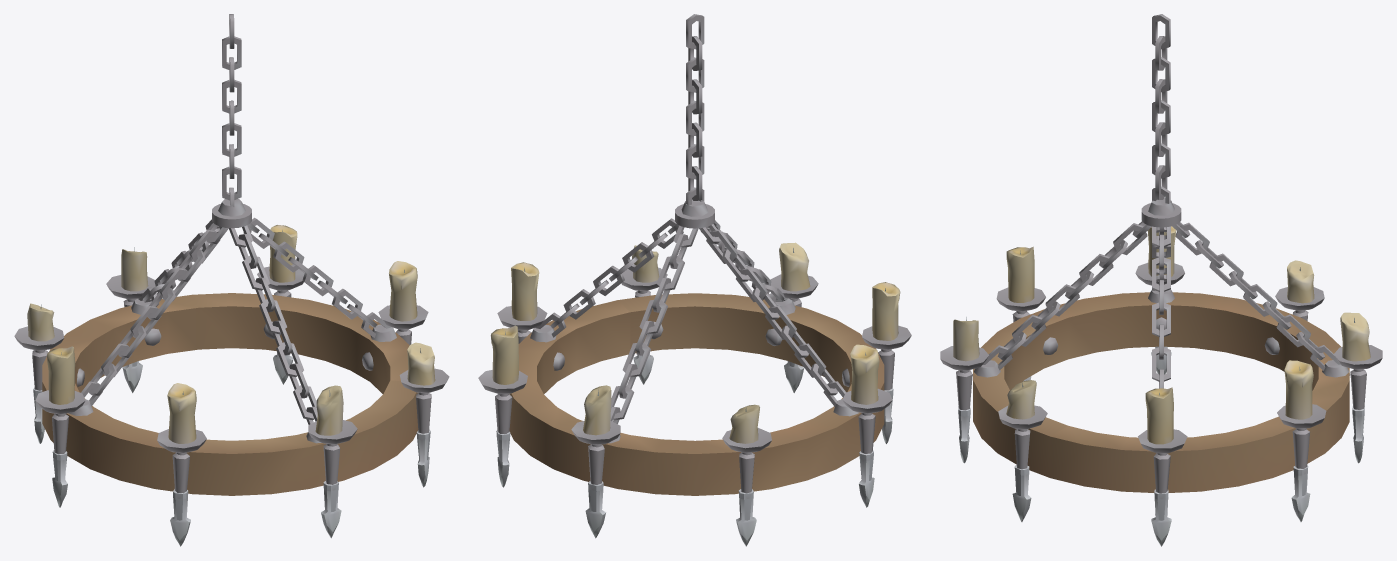
The model's file is Chandelier.glb.
The picture shows the model from 3 angles, left to right: view 1: azimuth 30°, elevation 25°; view 2: azimuth 150°, elevation 25°; view 3: azimuth 270°, elevation 25°; orthographic projection.
Visible parts, largest first — view 1: Chandelier_e2ba08, Chandelier_835a2e, Chandelier_0fcf77; view 2: Chandelier_e2ba08, Chandelier_835a2e, Chandelier_0fcf77; view 3: Chandelier_e2ba08, Chandelier_835a2e, Chandelier_0fcf77.
Boxes of the visible parts, x1,y1,x2,y2 form: Chandelier_e2ba08: (42, 293, 418, 495); Chandelier_835a2e: (14, 14, 449, 493); Chandelier_0fcf77: (27, 225, 435, 546); Chandelier_e2ba08: (509, 293, 884, 495); Chandelier_835a2e: (478, 14, 911, 493); Chandelier_0fcf77: (490, 242, 900, 546); Chandelier_e2ba08: (973, 292, 1349, 492); Chandelier_835a2e: (940, 14, 1382, 493); Chandelier_0fcf77: (953, 226, 1370, 546).
Bounding box in the file's own units: 1.3 × 1.46 × 1.3.
